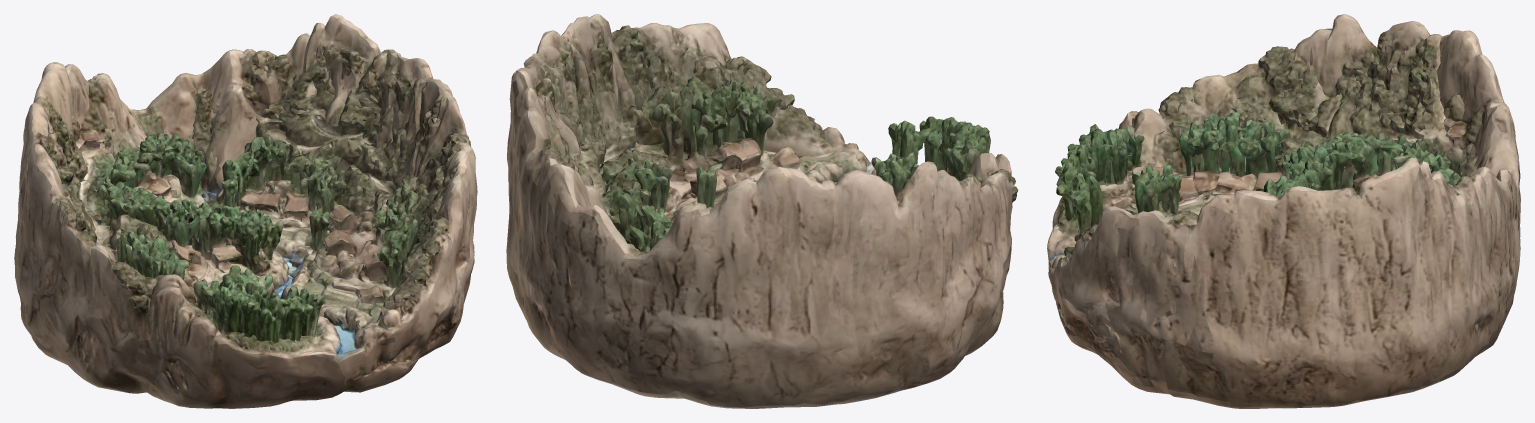
File: yucun.min.glb
3 renders of one model, left to right at view 1: azimuth 30°, elevation 25°; view 2: azimuth 150°, elevation 25°; view 3: azimuth 270°, elevation 25°, orthographic. The views are drawn at different scales.
Visible parts, largest first — view 1: geometry_0; view 2: geometry_0; view 3: geometry_0.
Boxes of the visible parts, box(x1,y1,x2,y2) form: geometry_0: box(14, 14, 477, 408); geometry_0: box(506, 14, 1018, 408); geometry_0: box(1047, 14, 1520, 408).
Bounding box in the file's own units: 0.25 × 0.1464 × 0.2459.
1 material, 1 textured.
